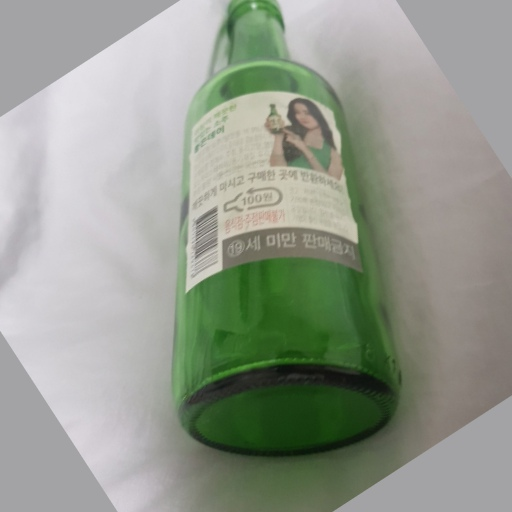Glass_0: (169, 1, 404, 462)
